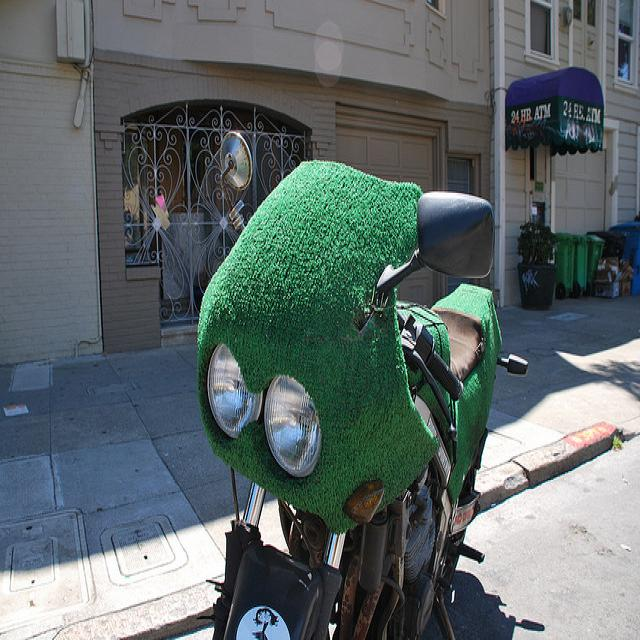motor: (196, 131, 528, 640)
